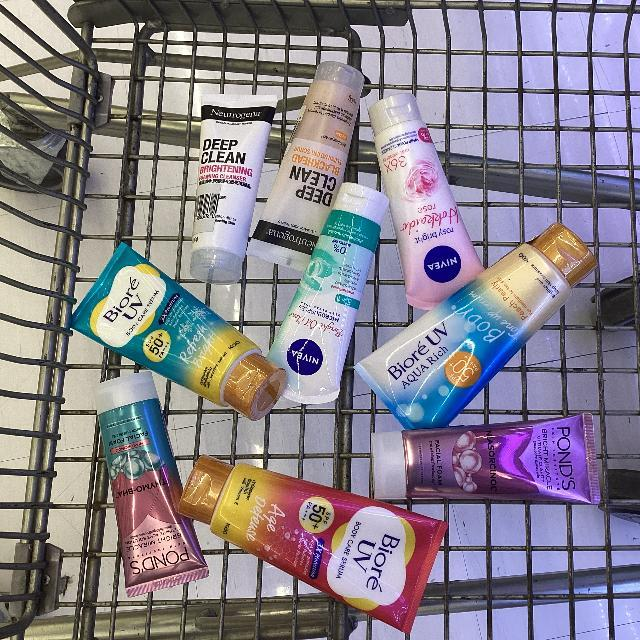Squeeze Tube: (59, 39, 612, 640)
